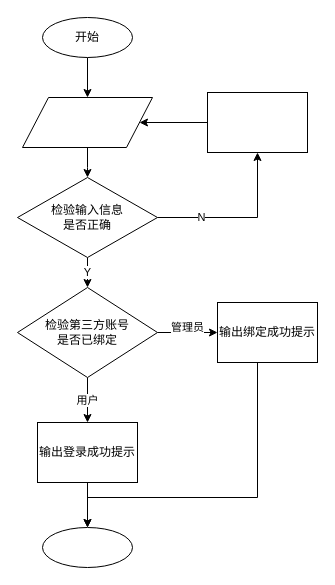
The diagram is 335 pixels wide and 585 high, and some of its shapes have lost their labels. Each missing label, with the box of its shape:
用户输入 第三方账号信息: (22, 96, 152, 148)
结束: (42, 526, 132, 568)
输出具体错误提示: (206, 92, 308, 152)
